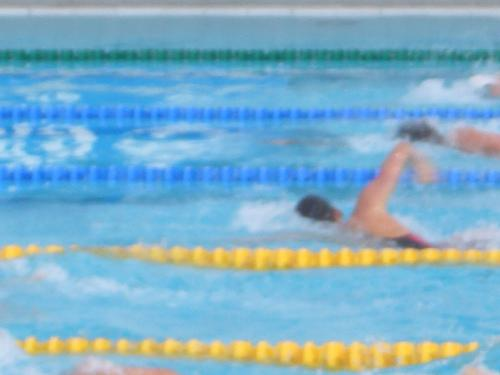swimmer: (293, 138, 423, 243)
